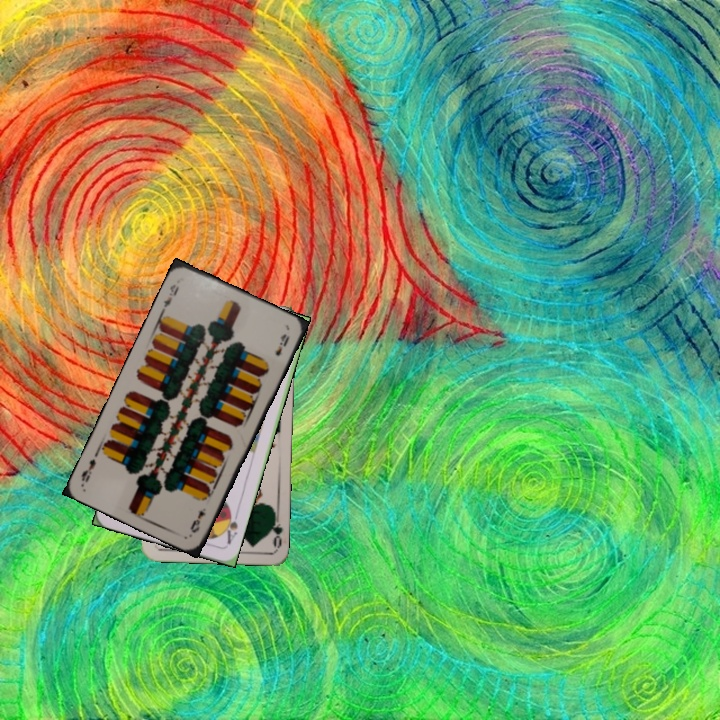E9: (158, 280, 182, 314), (186, 504, 209, 536)
GO: (265, 509, 285, 550)
SA: (219, 506, 241, 547)
